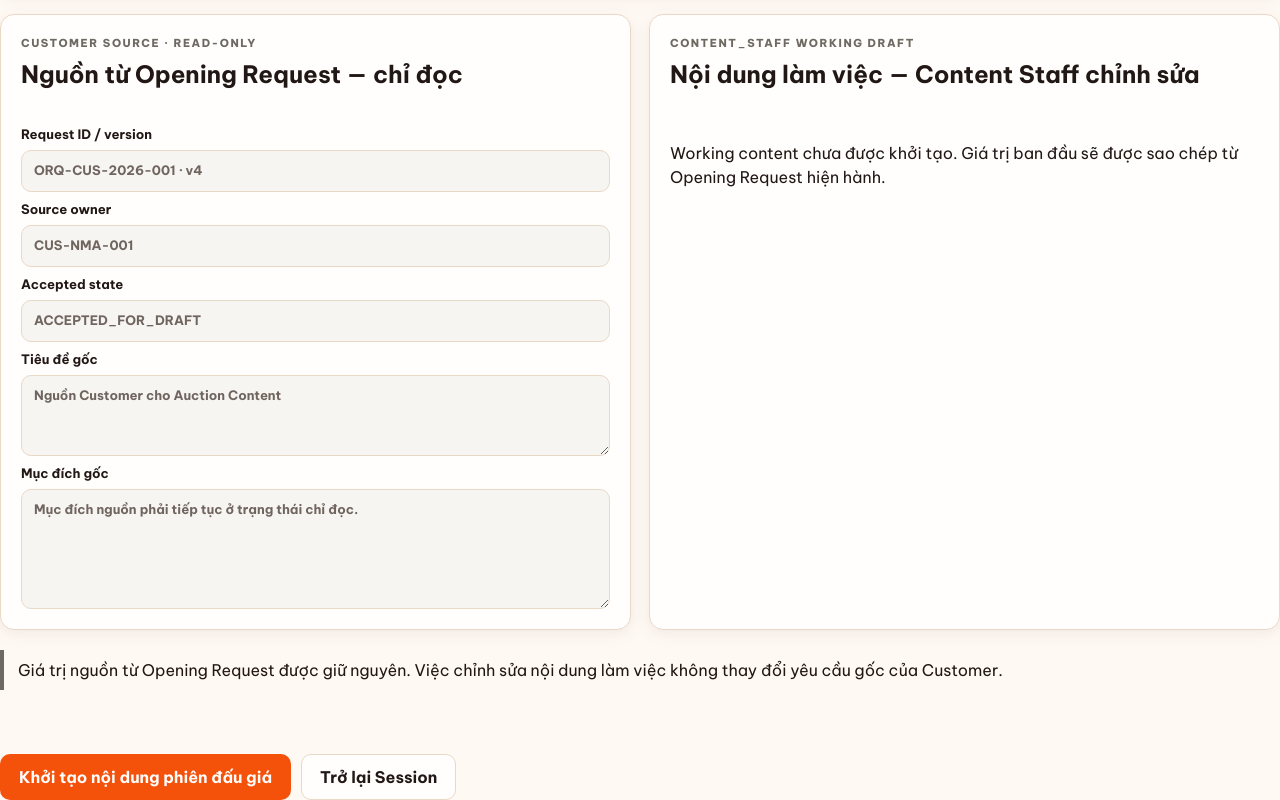
Auction Content foundation UI › 03 initializes eligible Customer content through the UI
The width and height of the screenshot is (1280, 800).
(page scrolled)
What coordinates should you click on to do the following:
click the button "Khởi tạo nội dung phiên đấu giá"
I would click on:
 (146, 777)
Its box is left=0, top=754, right=291, bottom=799.
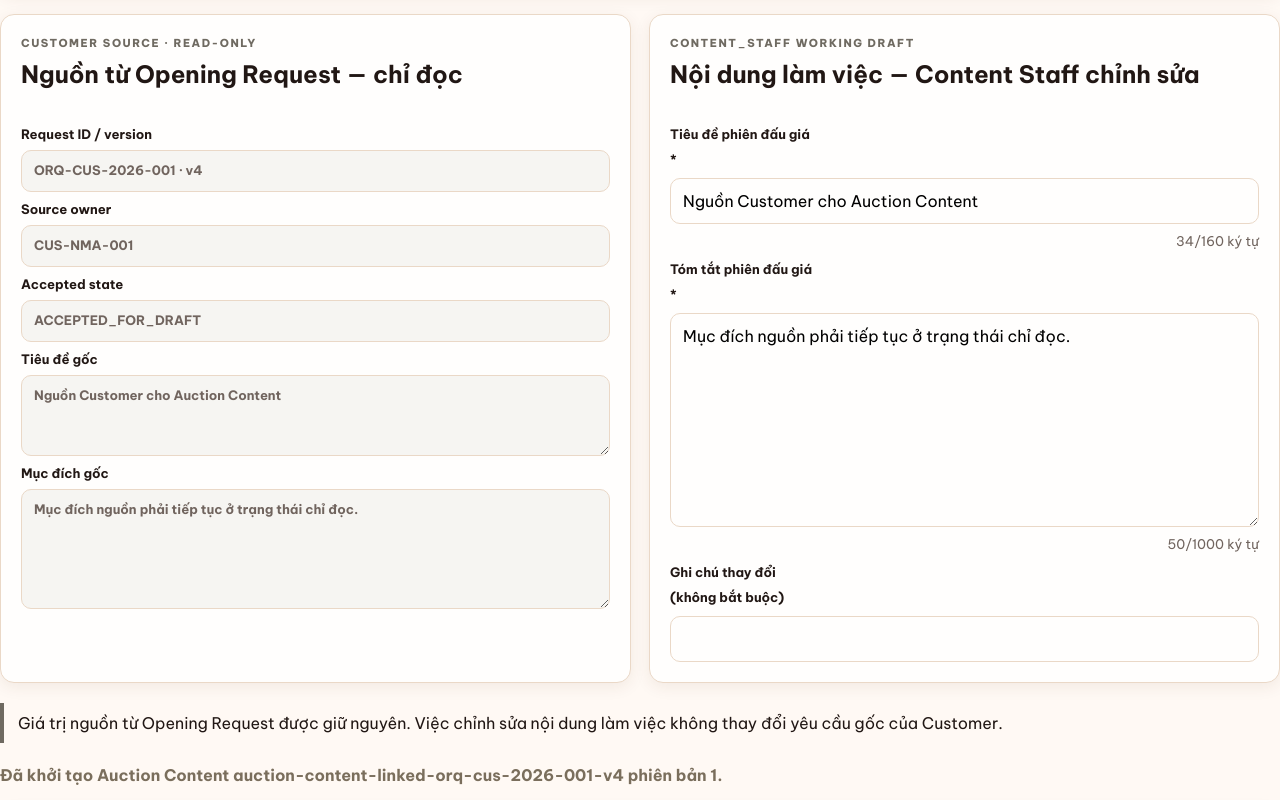
Now the field labelled "Tiêu đề phiên đấu giá *" holds "Nguồn Customer cho Auction Content", box left=670, top=178, right=1259, bottom=224
